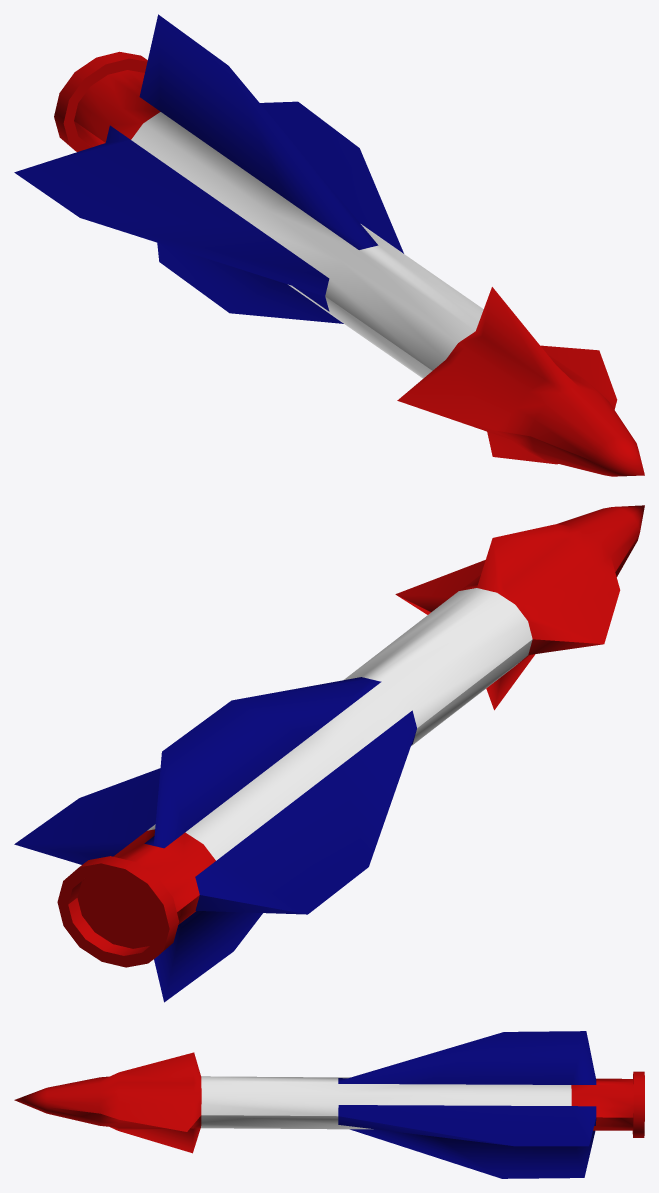
The model's file is missile (1).fbx.
3 views of the same model, one above another, from view 1: azimuth 30°, elevation 25°; view 2: azimuth 150°, elevation 25°; view 3: azimuth 270°, elevation 25° (orthographic). The views are drawn at different scales.
Parts seen in each view (by area): view 1: pCylinder1; view 2: pCylinder1; view 3: pCylinder1.
Boxes of the visible parts, x1,y1,x2,y2 form: pCylinder1: (14,14,644,476); pCylinder1: (14,505,644,1002); pCylinder1: (14,1031,644,1178).
Size of the model in its own units: 1.39 by 1.15 by 4.45.
